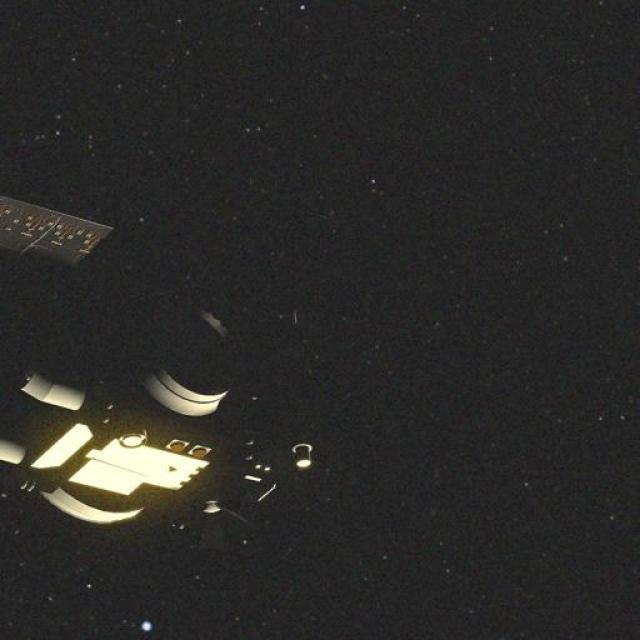proba_3_csc: (0, 195, 329, 563)
